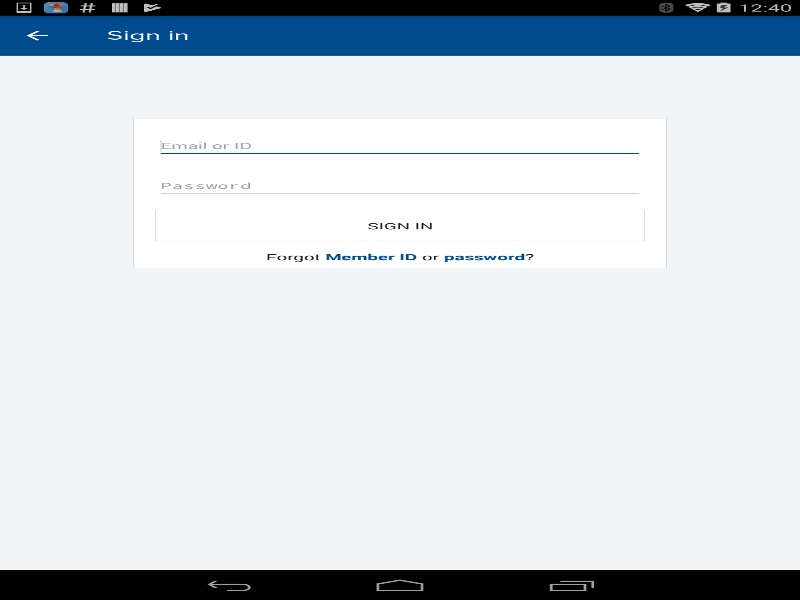Button: (155, 210, 644, 240)
Input: (155, 133, 644, 158), (155, 173, 644, 198)
